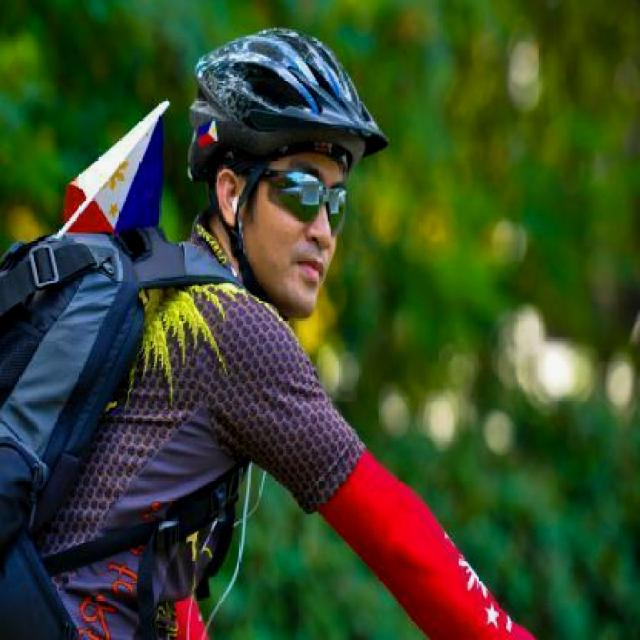face_nomask: (269, 168, 351, 292)
glasses: (260, 160, 355, 214)
head_helmet: (200, 24, 386, 158)
person: (0, 26, 382, 640)
